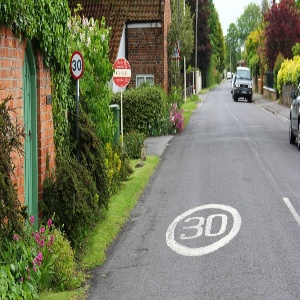30 speed: (71, 52, 83, 79)
